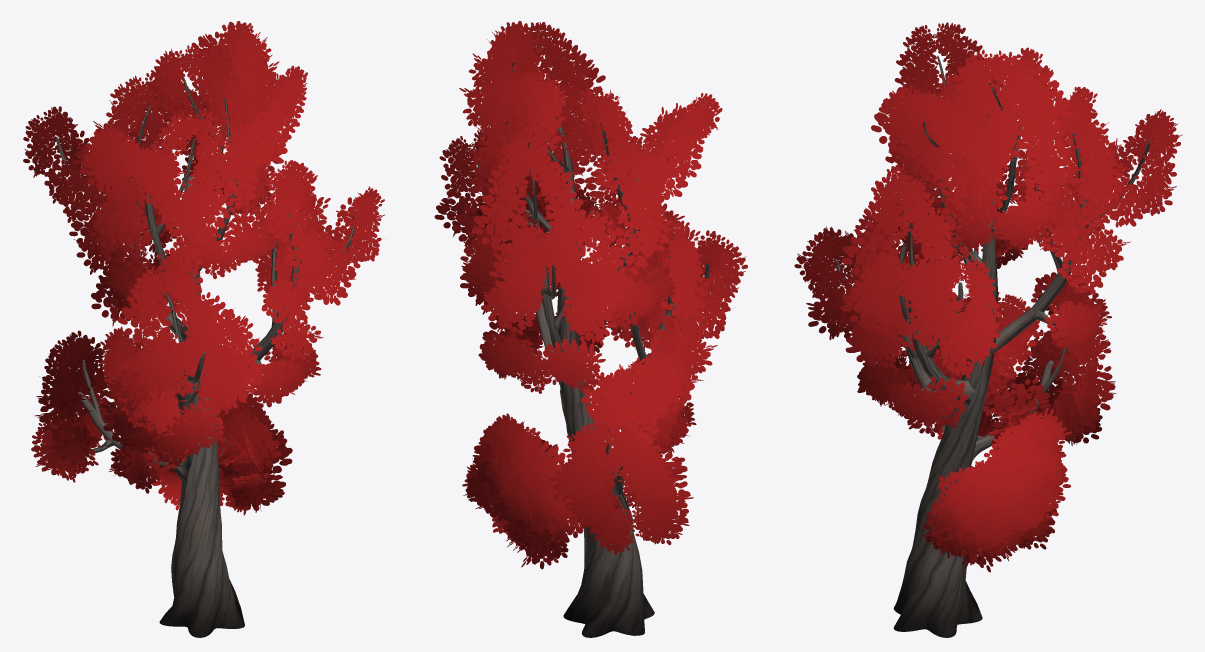
File: TwistedTree_4.glb
3 views of the same model, side by side, from view 1: azimuth 30°, elevation 25°; view 2: azimuth 150°, elevation 25°; view 3: azimuth 270°, elevation 25° (orthographic). The views are drawn at different scales.
Visible parts, largest first — view 1: TwistedTree_4; view 2: TwistedTree_4; view 3: TwistedTree_4.
Part boxes in pixels (box(x1,y1,x2,y2)): TwistedTree_4: box(23, 21, 384, 637); TwistedTree_4: box(434, 21, 747, 637); TwistedTree_4: box(794, 22, 1182, 637).
Bounding box in the file's own units: 10.38 × 18.74 × 11.29.
2 materials, 2 textured.
